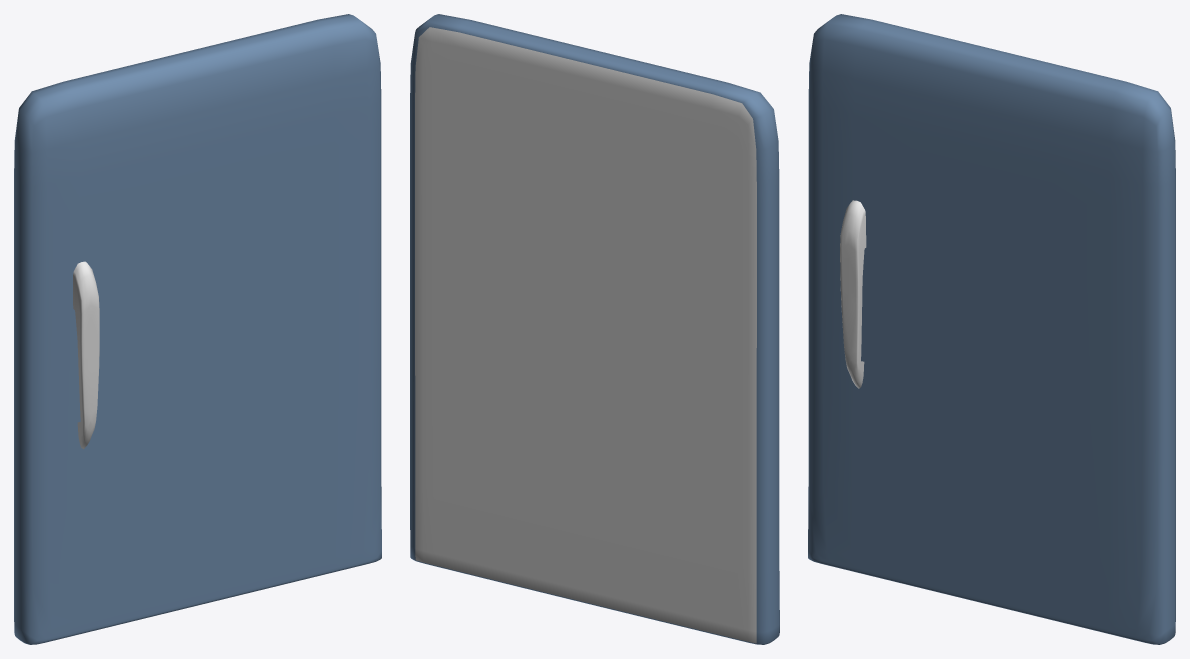
File: kyldoor.fbx
3 views of the same model, side by side, from view 1: azimuth 30°, elevation 25°; view 2: azimuth 150°, elevation 25°; view 3: azimuth 330°, elevation 25° (orthographic).
Visible parts, largest first — view 1: Door; view 2: Door; view 3: Door.
Part boxes in pixels (<box>): Door: <box>14,14,381,644</box>; Door: <box>410,14,779,644</box>; Door: <box>808,14,1175,644</box>.
Size of the model in its own units: 79.6 by 115 by 10.54.
